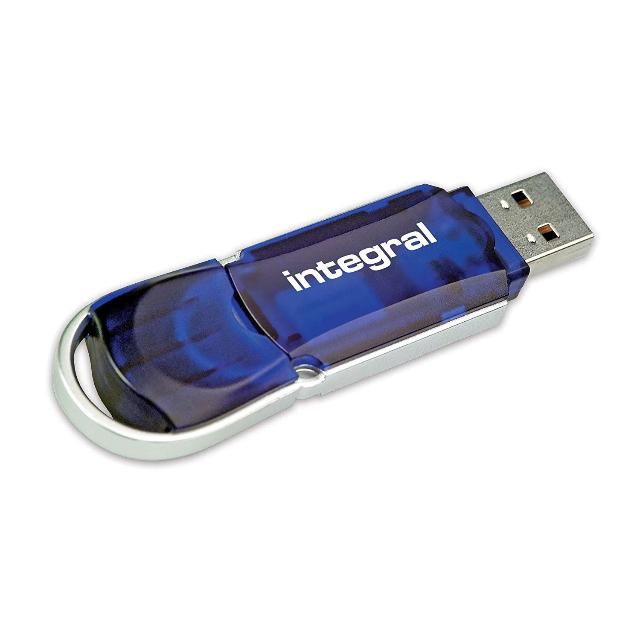USB-Flash-Drive: (49, 173, 596, 463)
